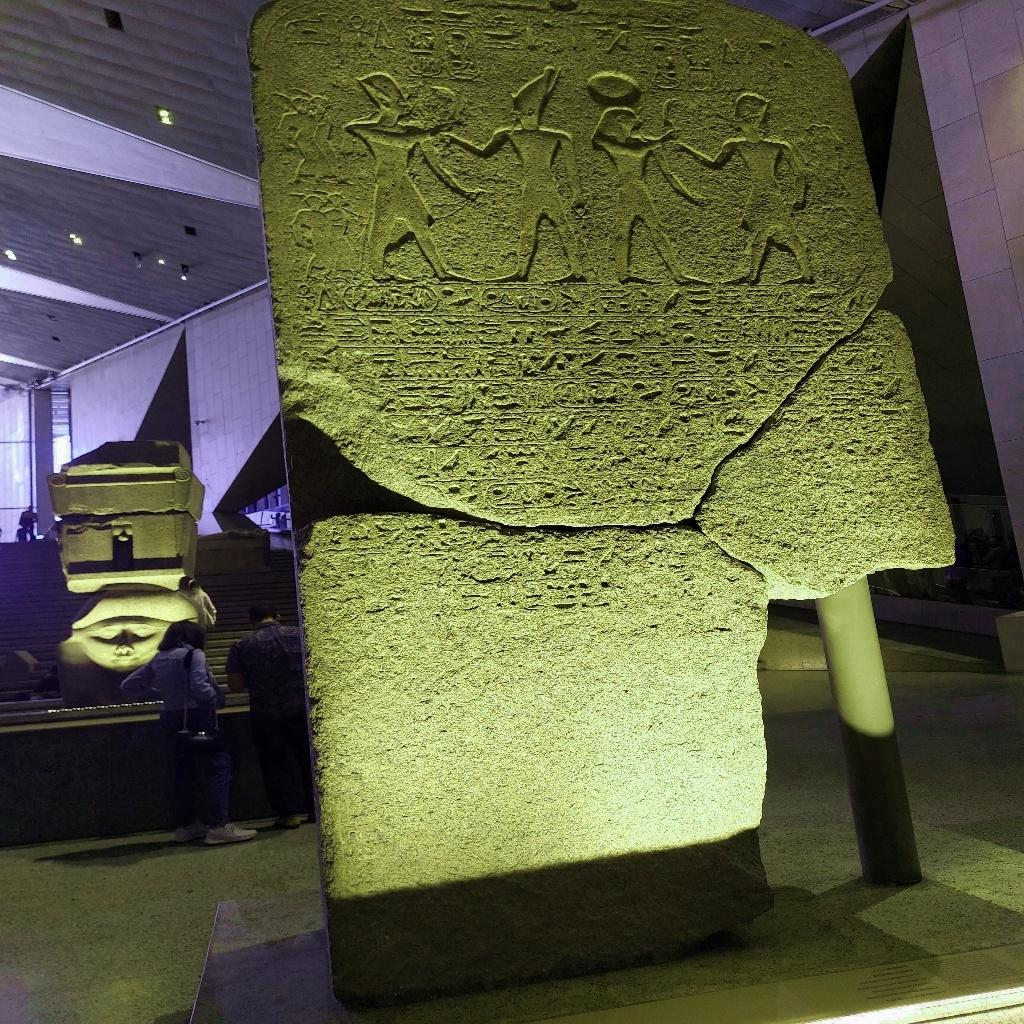Rhetorical Stela of King Ramesses ll: (244, 2, 958, 1008)
